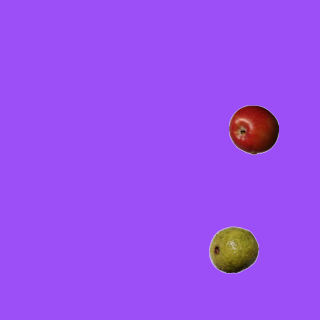Apple Braeburn: (228, 104, 278, 154)
Guava: (208, 224, 258, 274)
